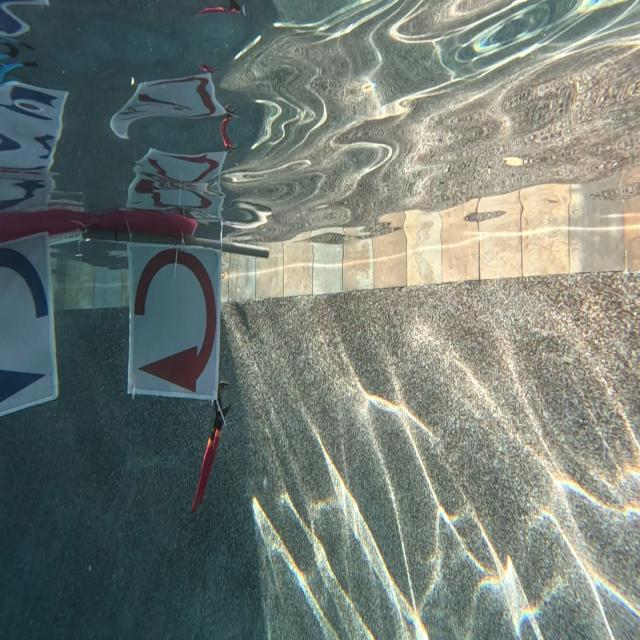blue_side: (0, 236, 59, 416)
red_side: (128, 239, 218, 405)
